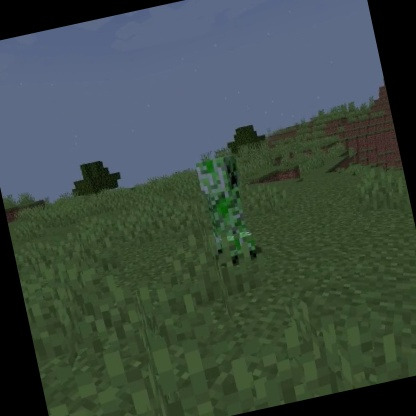creeper: (189, 150, 266, 273)
